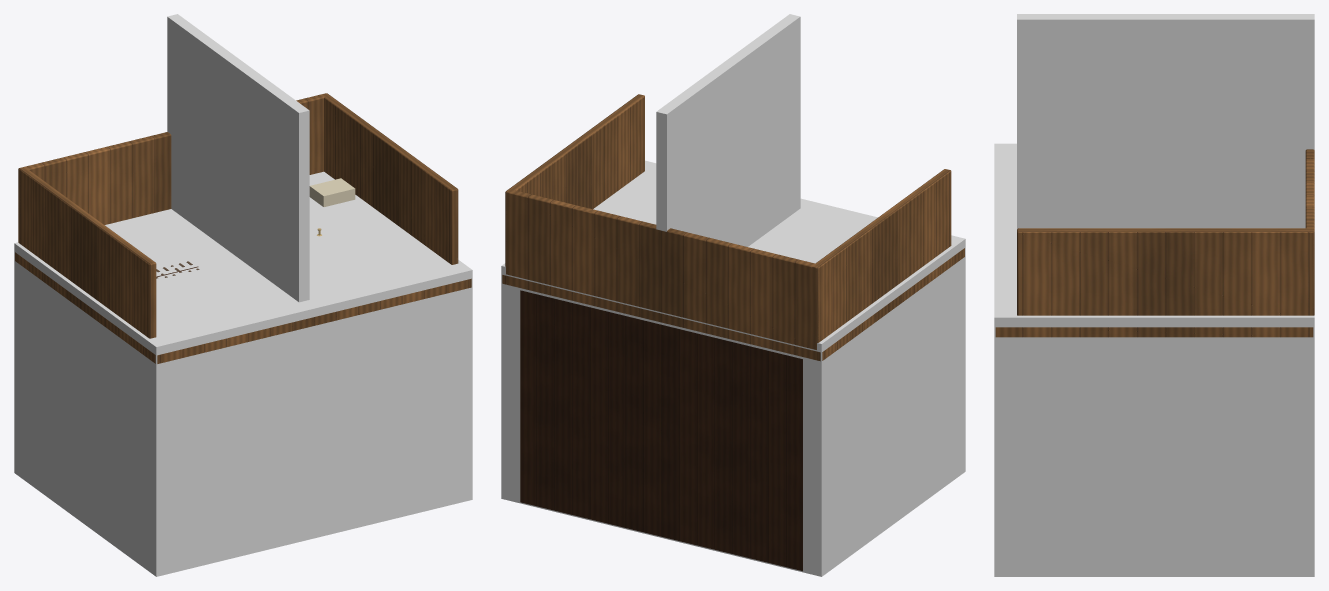
File: bandai.glb
3 renders of one model, left to right at view 1: azimuth 30°, elevation 25°; view 2: azimuth 150°, elevation 25°; view 3: azimuth 270°, elevation 25°, orthographic. The views are drawn at different scales.
Visible parts, largest first — view 1: COL_Booth, Bandai, COL_Divider; view 2: Bandai, COL_Booth, COL_Divider; view 3: COL_Booth, COL_Divider, Bandai.
Part boxes in pixels (x1=…): COL_Booth: x1=14, y1=171, x2=472, y2=576; Bandai: x1=15, y1=93, x2=471, y2=363; COL_Divider: x1=167, y1=14, x2=309, y2=302; Bandai: x1=502, y1=94, x2=964, y2=571; COL_Booth: x1=501, y1=160, x2=965, y2=576; COL_Divider: x1=656, y1=14, x2=800, y2=246; COL_Booth: x1=994, y1=143, x2=1314, y2=576; COL_Divider: x1=1017, y1=14, x2=1314, y2=229; Bandai: x1=995, y1=149, x2=1314, y2=337.
Size of the model in its own units: 1.8 by 2.28 by 1.4.
Materials: 7 (2 with a texture image).
